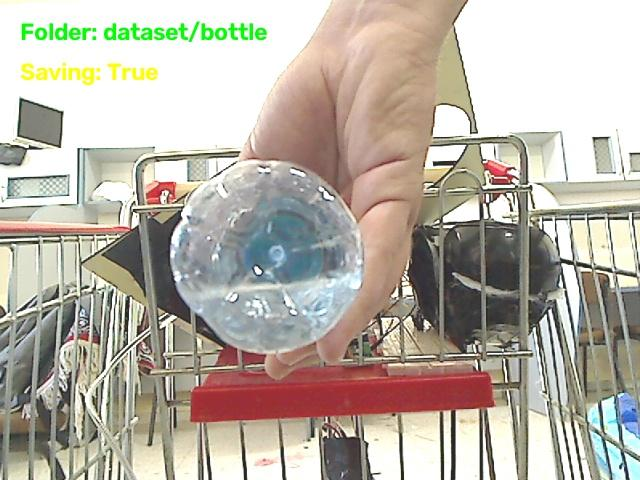Bottle: (170, 161, 362, 353)
can: (171, 161, 362, 351)
